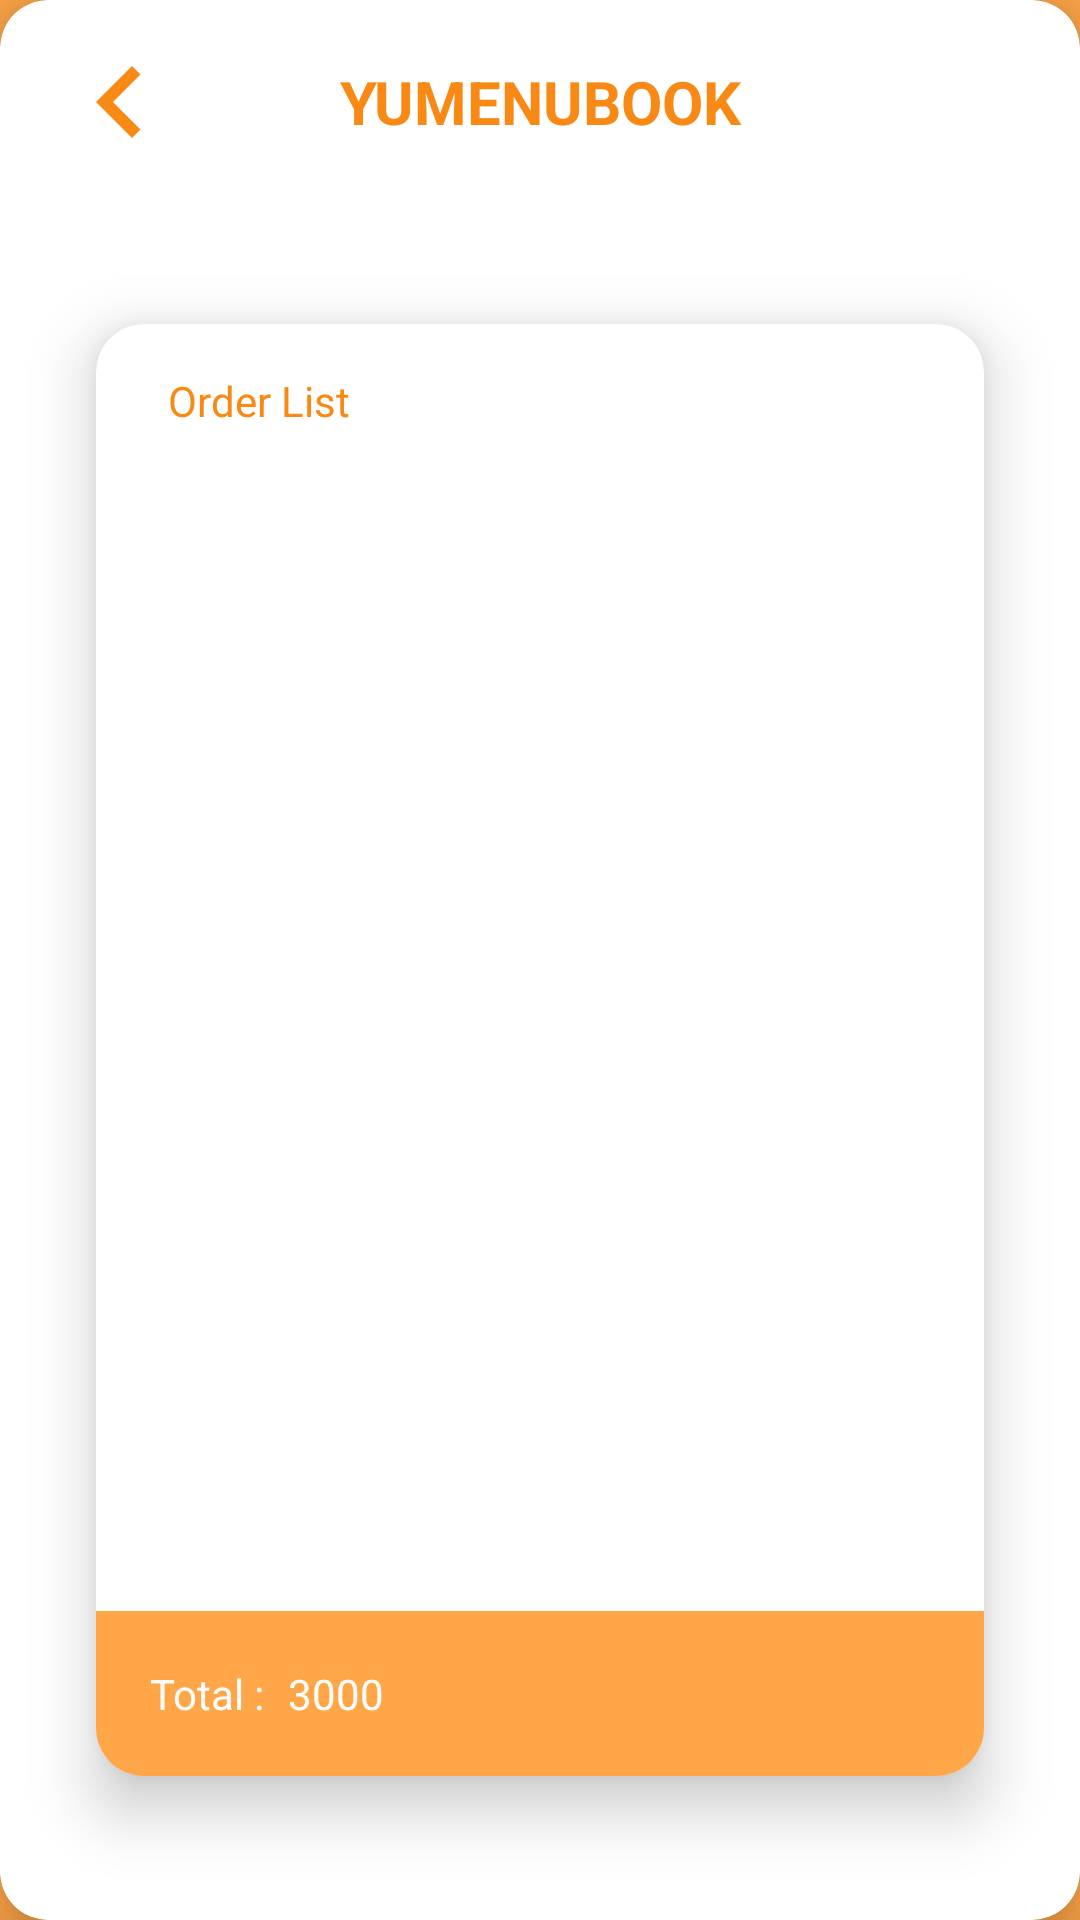

Icons on this 1080w x 1920h Android screen, each with its box as (x1, y1, x2, y2):
navigate before: (96, 66, 141, 138)
